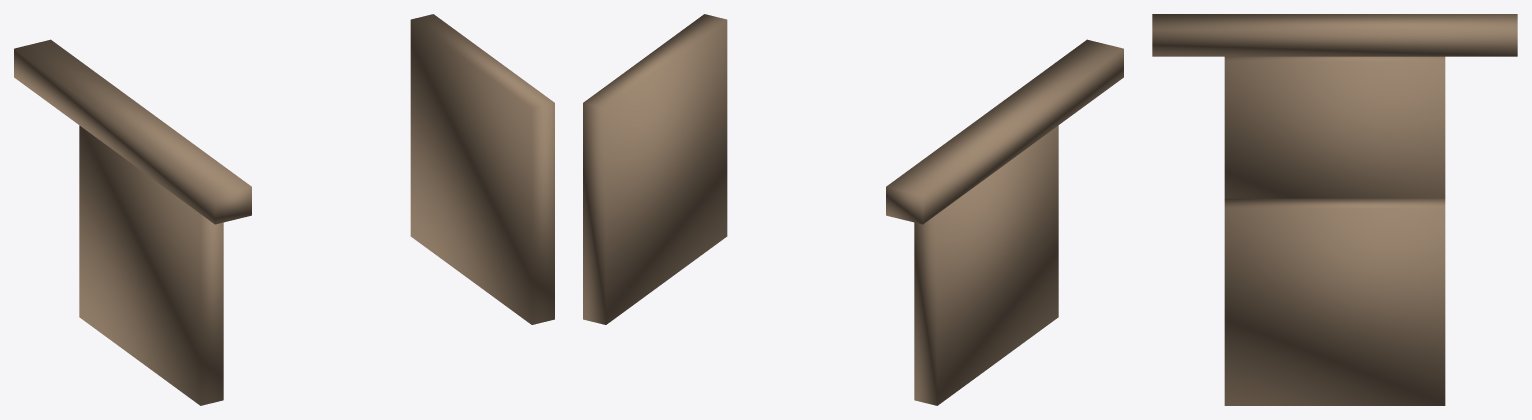
File: luggage_rack__deep.glb
3 renders of one model, left to right at view 1: azimuth 30°, elevation 25°; view 2: azimuth 150°, elevation 25°; view 3: azimuth 270°, elevation 25°, orthographic. The views are drawn at different scales.
Parts seen in each view (by area): view 1: world; view 2: world; view 3: world.
Boxes of the visible parts, x1,y1,x2,y2 form: world: (14,14,554,405); world: (583,14,1123,405); world: (1152,14,1517,405).
Size of the model in its own units: 0.825 by 0.51 by 0.7564.
